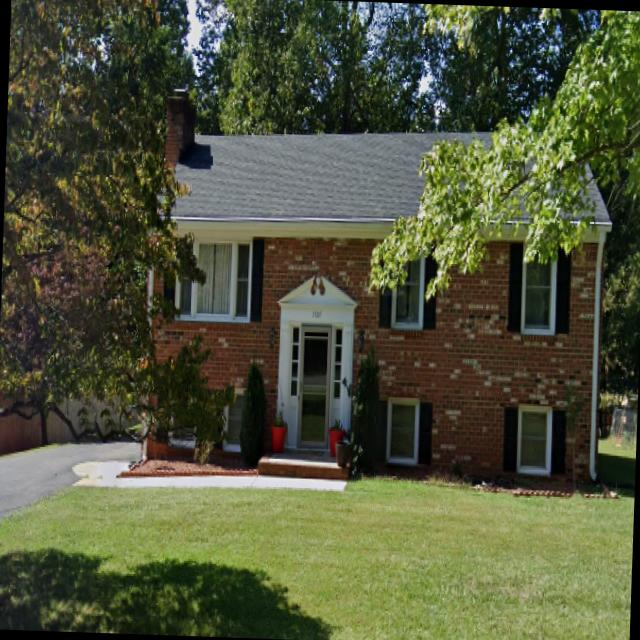House: (138, 89, 614, 488)
